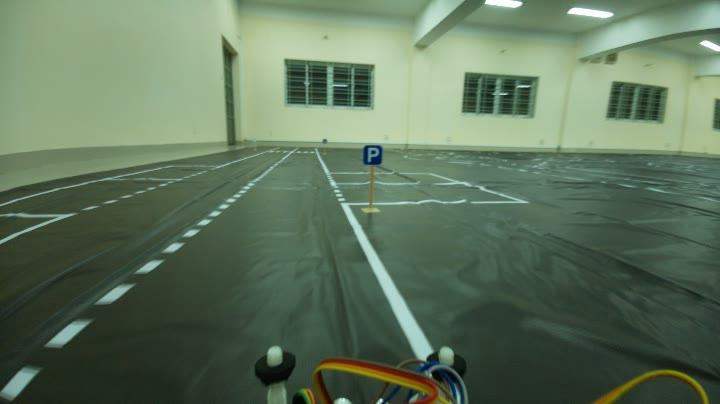parking: (356, 138, 393, 168)
